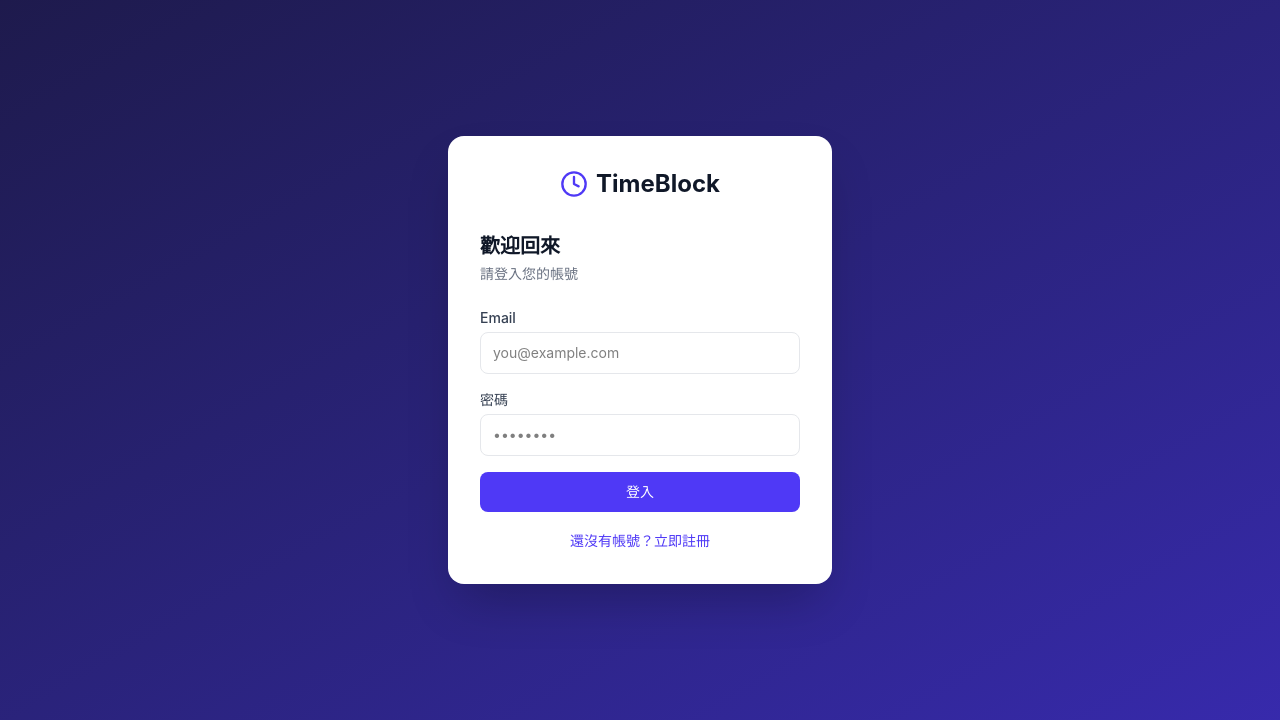
Test: LoginPage › 登入失敗時顯示錯誤訊息
The width and height of the screenshot is (1280, 720).
Type "bad@test.com" into the field with placeholder "you@example.com" at point(640, 353), box x1=480 y1=332 x2=800 y2=374
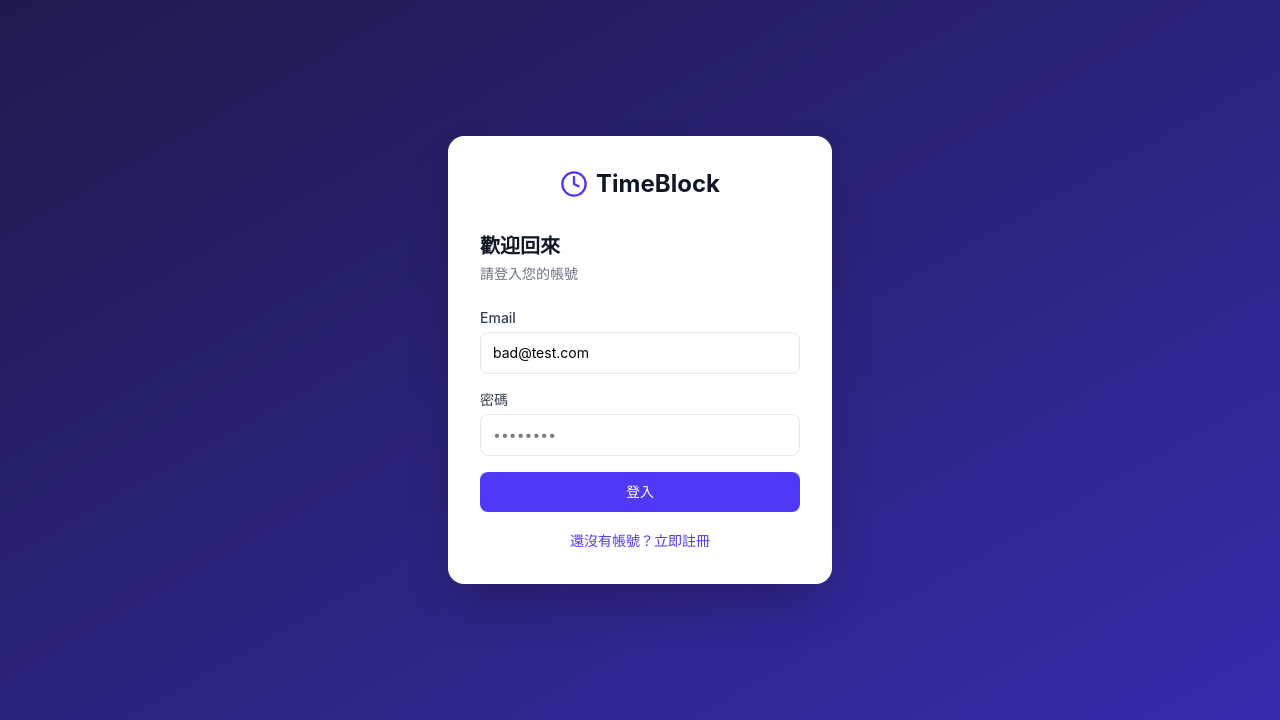
Type "wrong" into the password field with placeholder "••••••••" at point(640, 435), box x1=480 y1=414 x2=800 y2=456
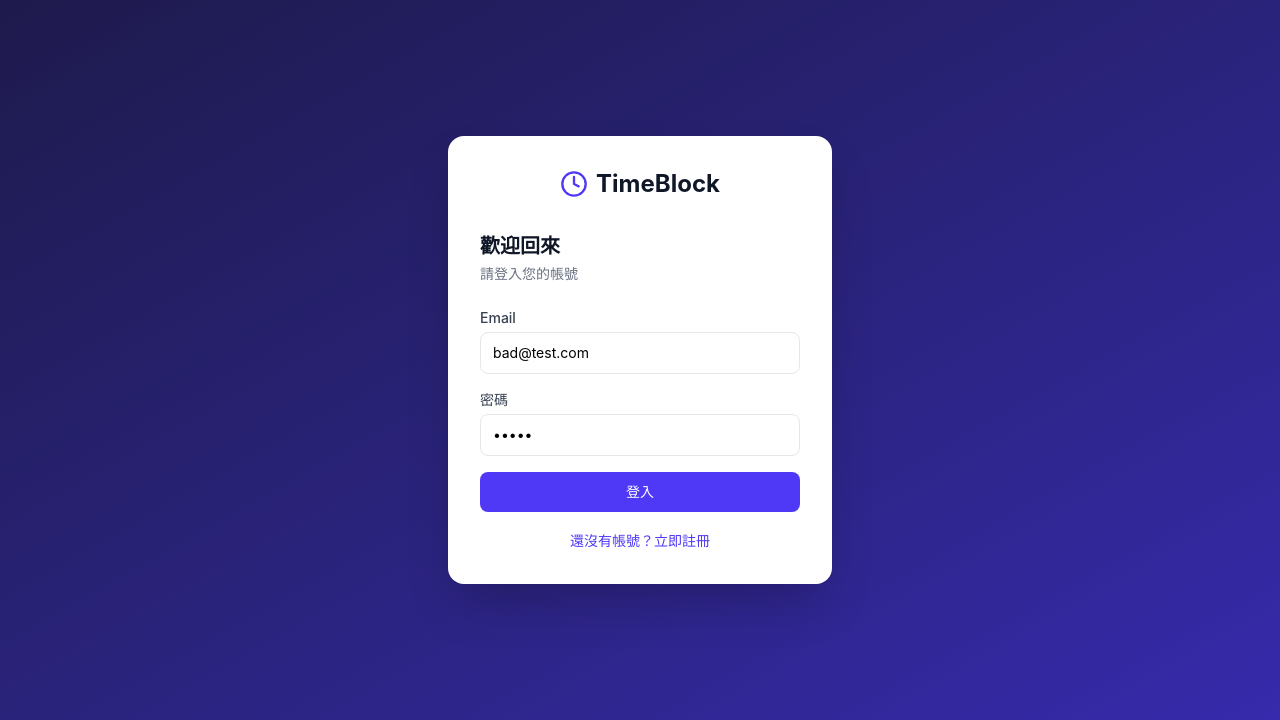
Submit the form "登入", box x1=480 y1=308 x2=800 y2=512
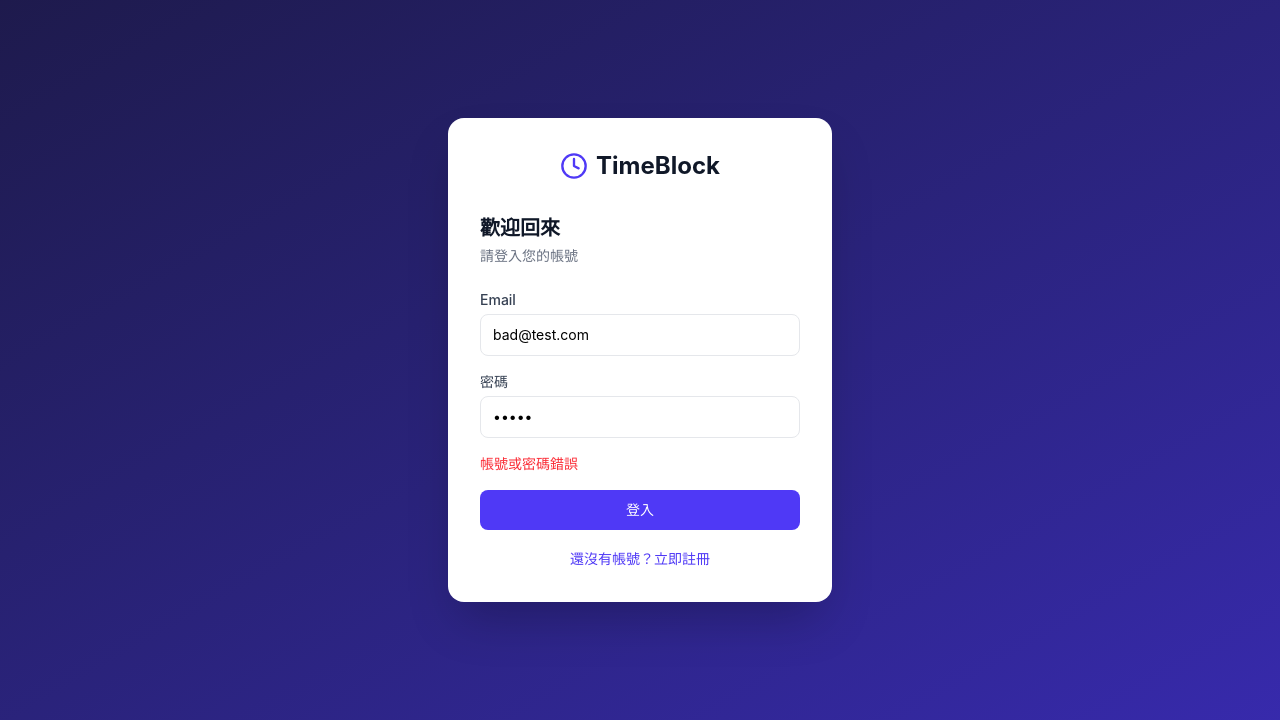
Now the text "帳號或密碼錯誤" is shown, box x1=480 y1=455 x2=578 y2=472
